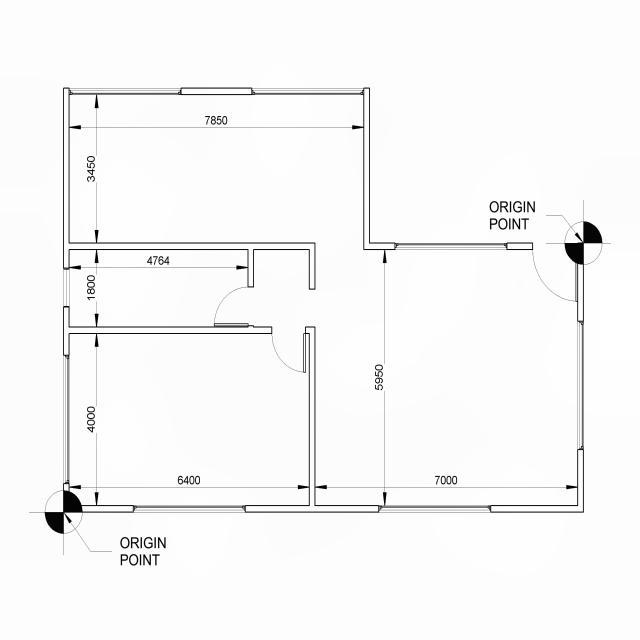Column: (63, 491, 70, 513), (577, 243, 584, 264), (70, 505, 82, 513)
Door: (532, 242, 577, 302), (271, 326, 310, 373), (214, 286, 254, 328)
Window: (68, 88, 182, 96), (394, 242, 508, 250), (378, 505, 492, 513), (577, 320, 584, 450), (63, 354, 70, 484), (133, 505, 246, 513), (252, 87, 364, 95), (63, 268, 70, 308)
